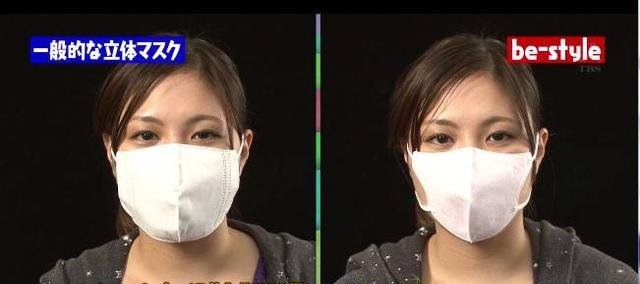face_mask: (409, 72, 535, 242), (116, 78, 240, 242)
